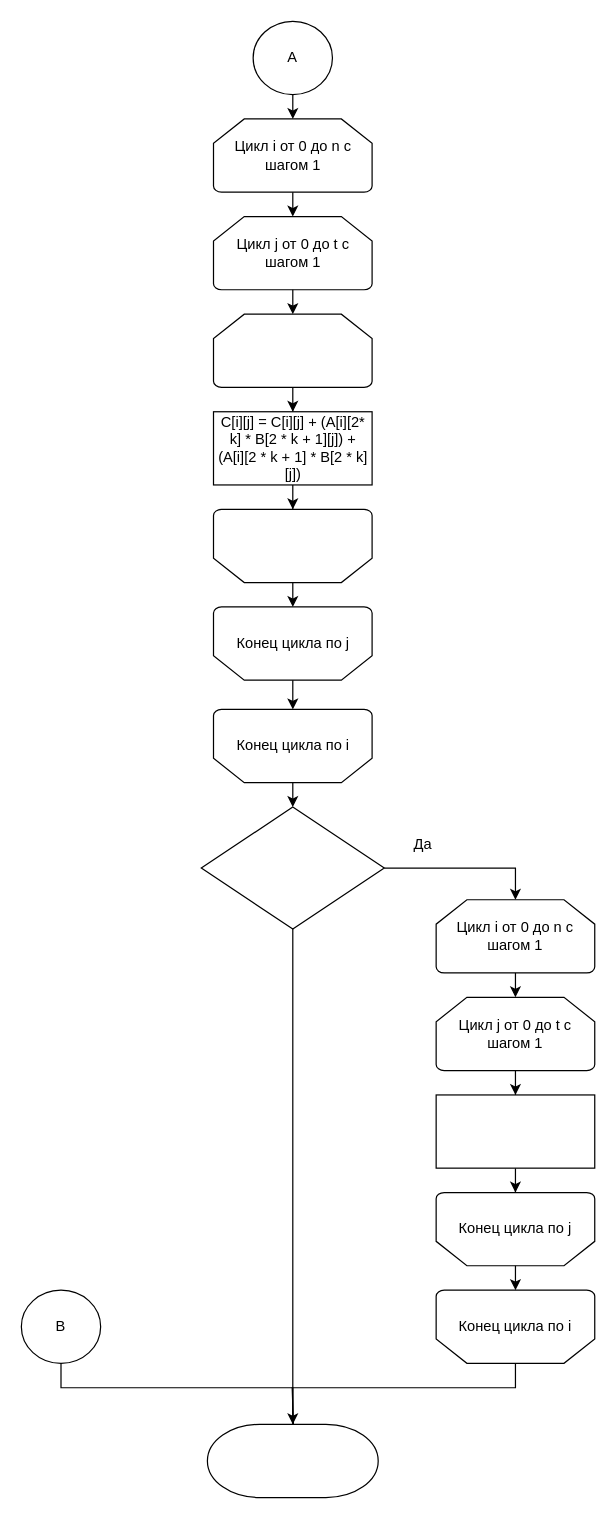
Some shapes in this 616 by 1519 pixel diagram are drawn without their labels. The shapes that lost their labels are listed below. From the top down, each one's centre as x and y in pixels, then its label:
At (292,350): "Цикл k от 0 до m/2 с шагом 1".
At (292,545): "Конец цикла по k".
At (292,867): "t - четное".
At (515,1131): "C[i][j] = C[i][j] + A[i][t - 1] * B[t - 1][j]".
At (292,1460): "Начало".
